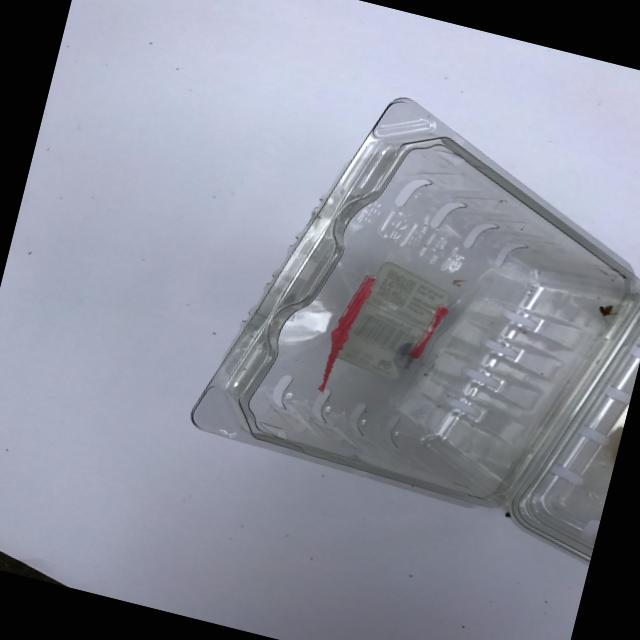Plastic: (145, 27, 640, 577)
